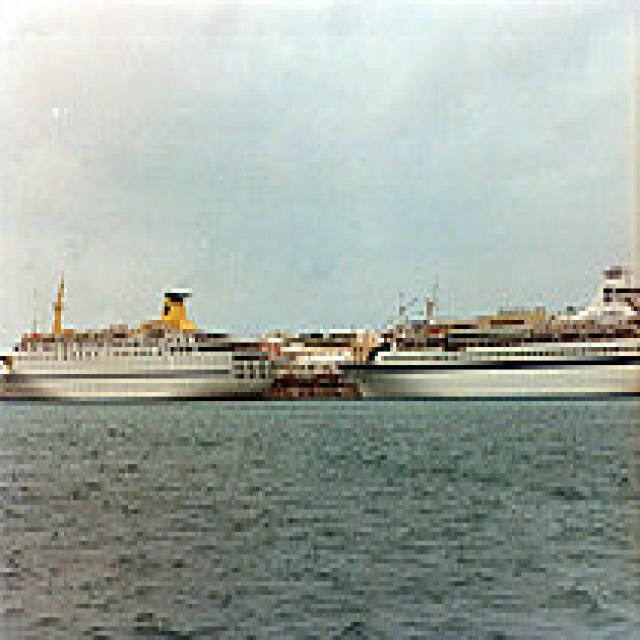Cruise: (332, 262, 637, 396), (0, 324, 277, 396)
